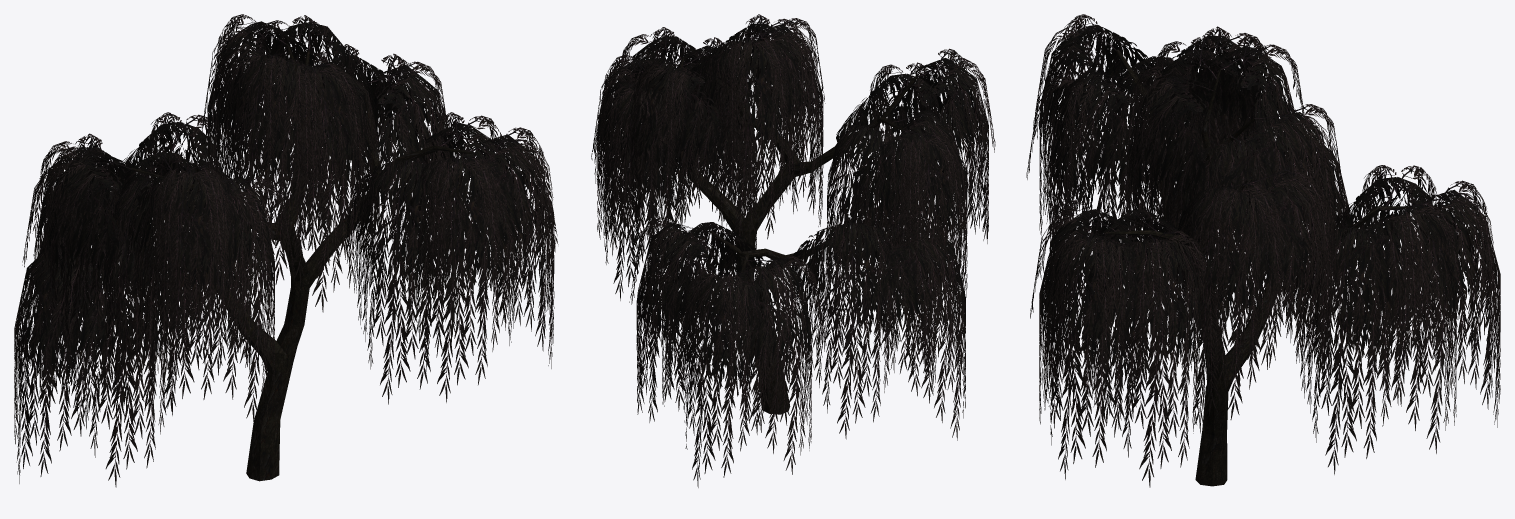
File: Willow.fbx
The picture shows the model from 3 angles, left to right: view 1: azimuth 30°, elevation 25°; view 2: azimuth 150°, elevation 25°; view 3: azimuth 270°, elevation 25°; orthographic projection. The views are drawn at different scales.
Visible parts, largest first — view 1: polySurface7, polySurfaceBark; view 2: polySurface7, polySurfaceBark; view 3: polySurface7, polySurfaceBark.
Part boxes in pixels (x1,y1,x2,y2): polySurface7: (14, 14, 558, 487); polySurfaceBark: (92, 43, 473, 481); polySurface7: (591, 14, 995, 487); polySurfaceBark: (659, 34, 917, 414); polySurface7: (1026, 14, 1500, 487); polySurfaceBark: (1104, 49, 1413, 486).
Bounding box in the file's own units: 0.249 × 0.2243 × 0.219.
